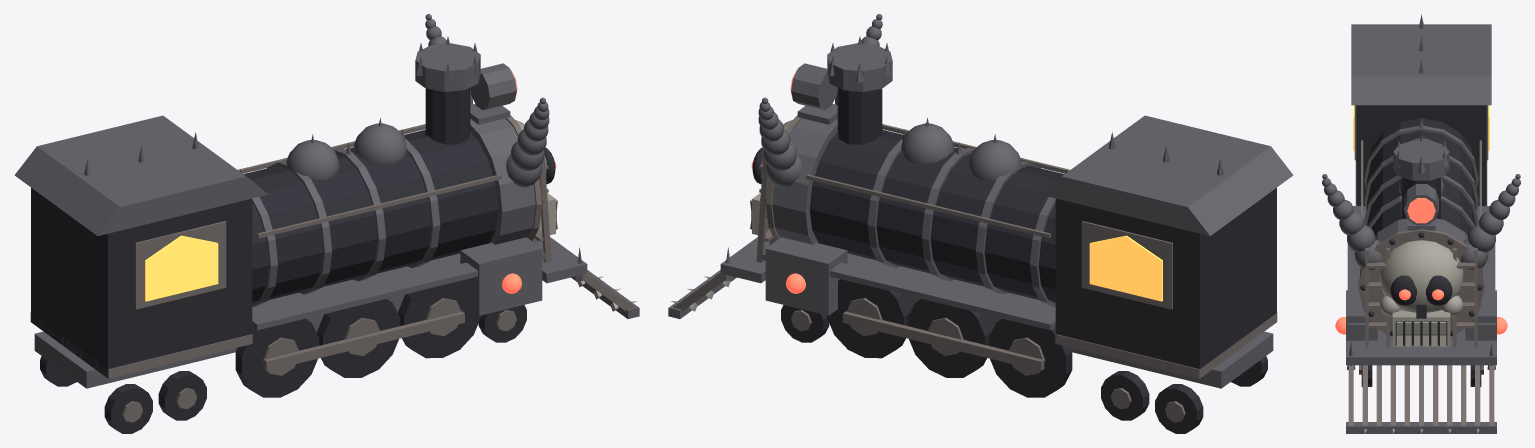
Rendered from Locomotive_Dark.fbx.
3 views of the same model, side by side, from view 1: azimuth 30°, elevation 25°; view 2: azimuth 150°, elevation 25°; view 3: azimuth 270°, elevation 25° (orthographic). The views are drawn at different scales.
Visible parts, largest first — view 1: Locomotive_Dark; view 2: Locomotive_Dark; view 3: Locomotive_Dark.
Boxes of the visible parts, box(x1,y1,x2,y2) form: Locomotive_Dark: box(14, 14, 639, 433); Locomotive_Dark: box(668, 14, 1293, 433); Locomotive_Dark: box(1322, 14, 1520, 433).
Bounding box in the file's own units: 6.09 × 2.9 × 2.26.
